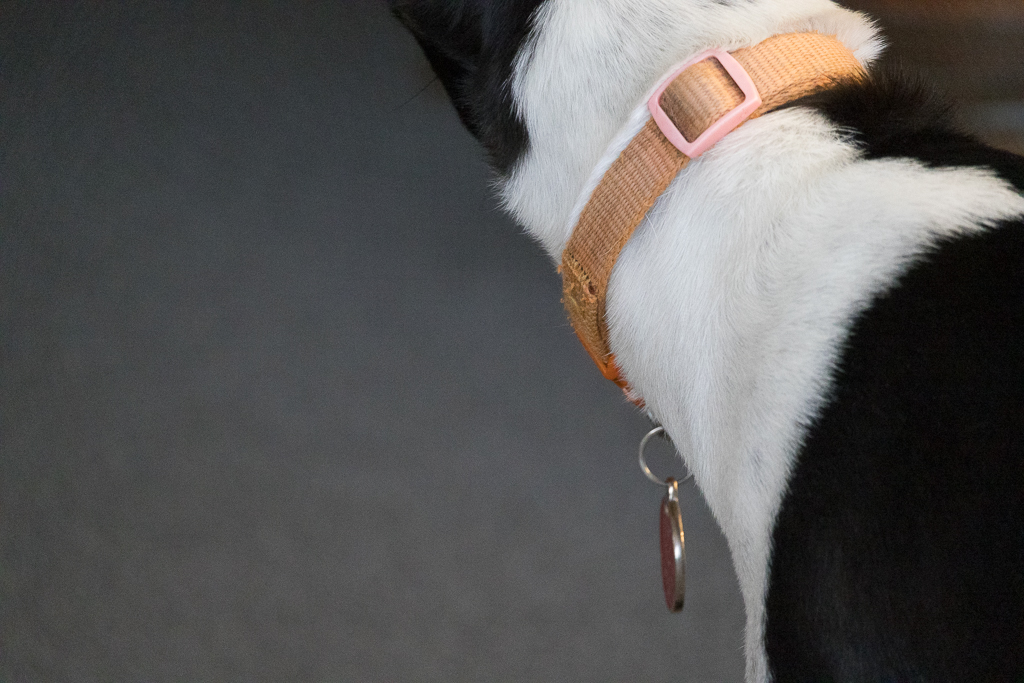Dog: (377, 0, 1024, 683)
